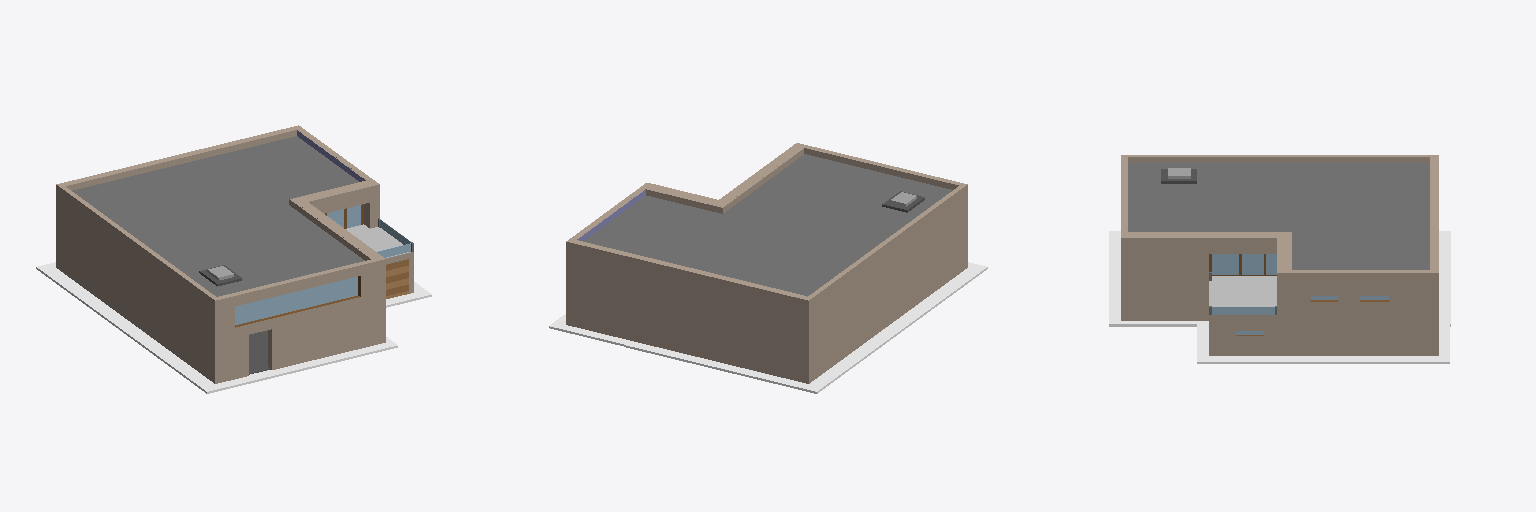
The picture shows the model from 3 angles: view 1: azimuth 30°, elevation 25°; view 2: azimuth 150°, elevation 25°; view 3: azimuth 270°, elevation 25°; orthographic projection.
Visible parts, largest first — view 1: polySurface341; view 2: polySurface341; view 3: polySurface341.
Part boxes in pixels (left/top/right/bottom): polySurface341: left=36, top=125, right=431, bottom=393; polySurface341: left=549, top=143, right=987, bottom=393; polySurface341: left=1109, top=155, right=1450, bottom=363.
Size of the model in its own units: 16.95 by 5.16 by 18.67.
Materials: 17 (13 with a texture image).